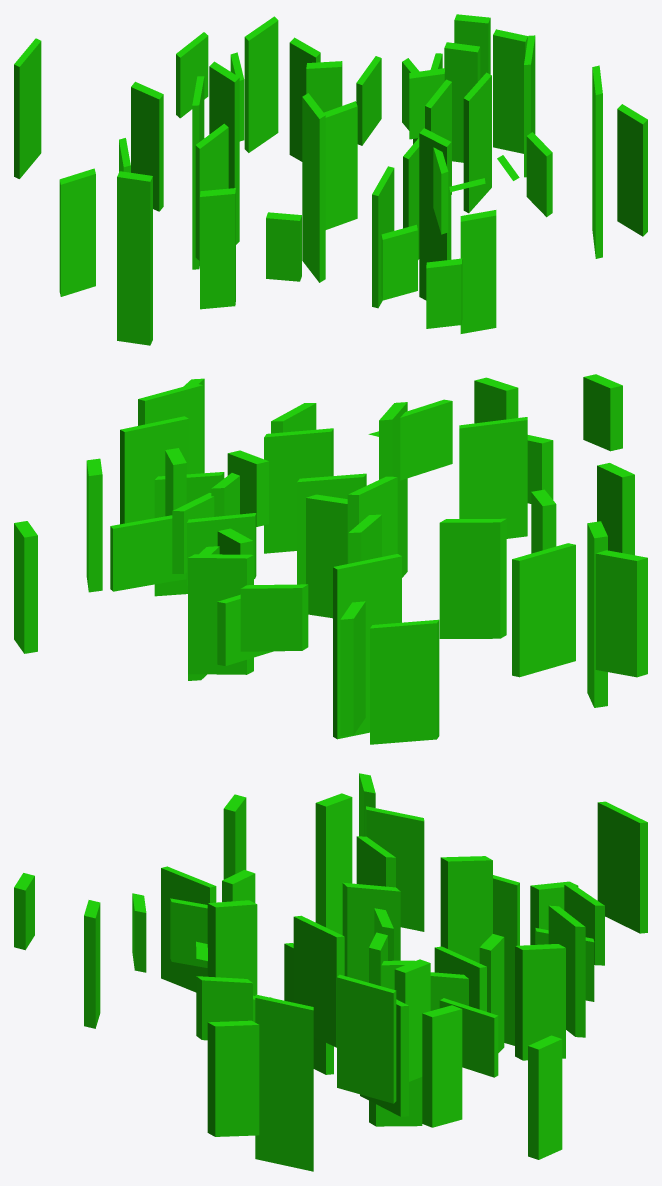
Rendered from CutGrass.fbx.
3 renders of one model, top to bottom at view 1: azimuth 30°, elevation 25°; view 2: azimuth 150°, elevation 25°; view 3: azimuth 270°, elevation 25°, orthographic. The views are drawn at different scales.
Parts seen in each view (by area): view 1: grassLightGreen.074; view 2: grassLightGreen.074; view 3: grassLightGreen.074.
Part boxes in pixels (x1,y1,x2,y2): grassLightGreen.074: [14, 14, 647, 345]; grassLightGreen.074: [14, 374, 647, 744]; grassLightGreen.074: [14, 773, 647, 1171].
Bounding box in the file's own units: 47.21 × 16.3 × 50.58.
